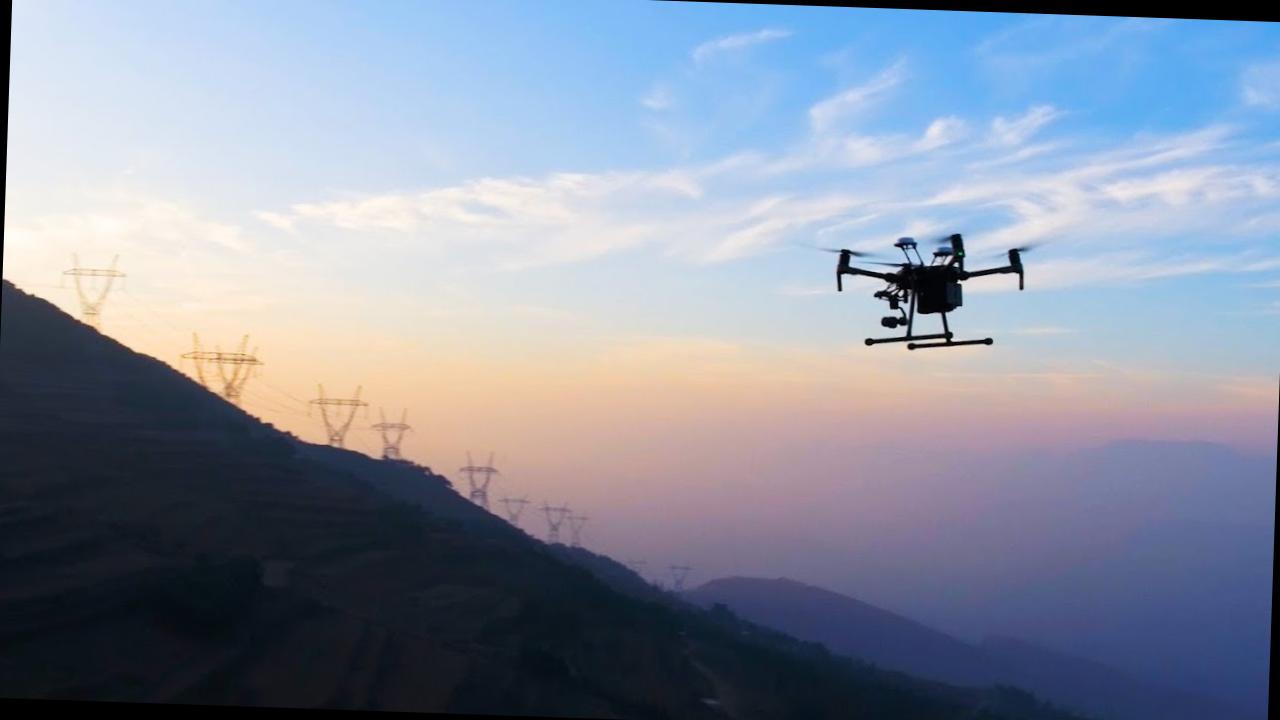drone: (830, 213, 1049, 343)
